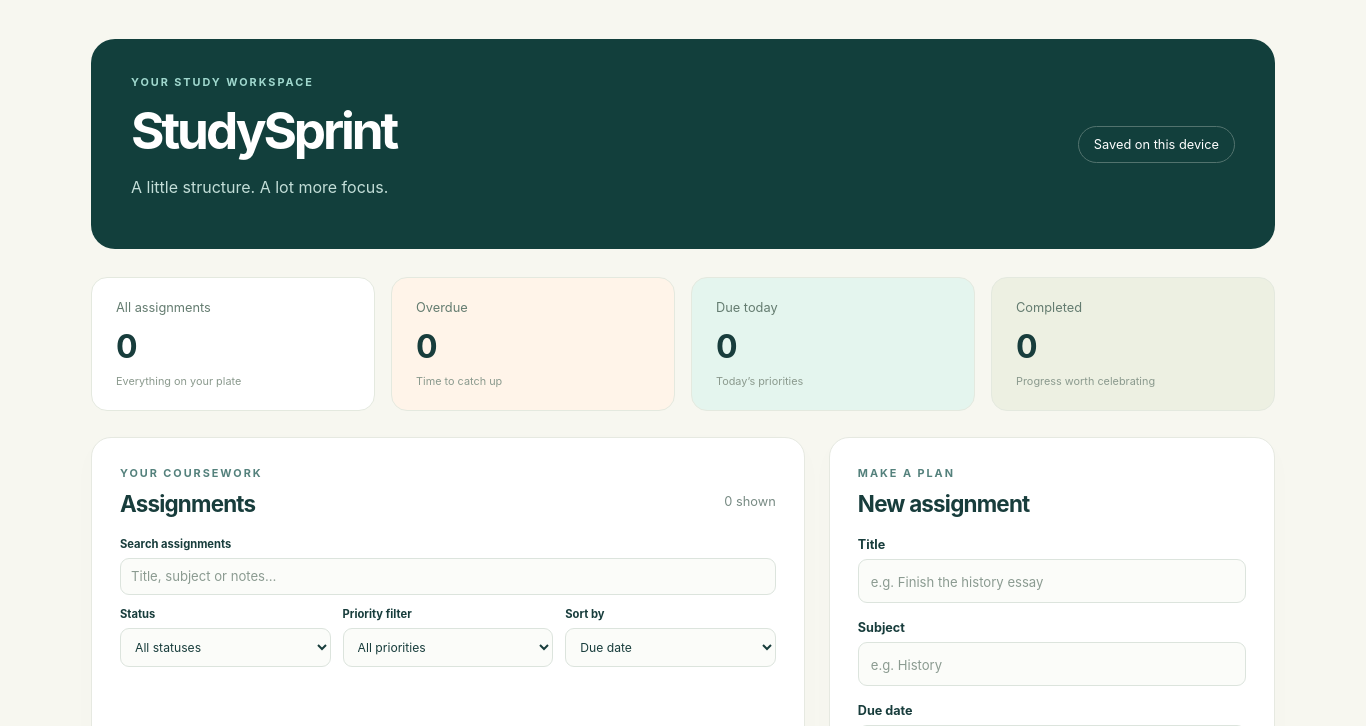
Test: keeps totals while combining labeled filters and exposes native clear/create controls
In the field labelled "Title": (1052,581) x1=858 y1=559 x2=1246 y2=603, type "Biology review"
In the field labelled "Subject": (1052,664) x1=858 y1=642 x2=1246 y2=686, type "History"
(page scrolled)
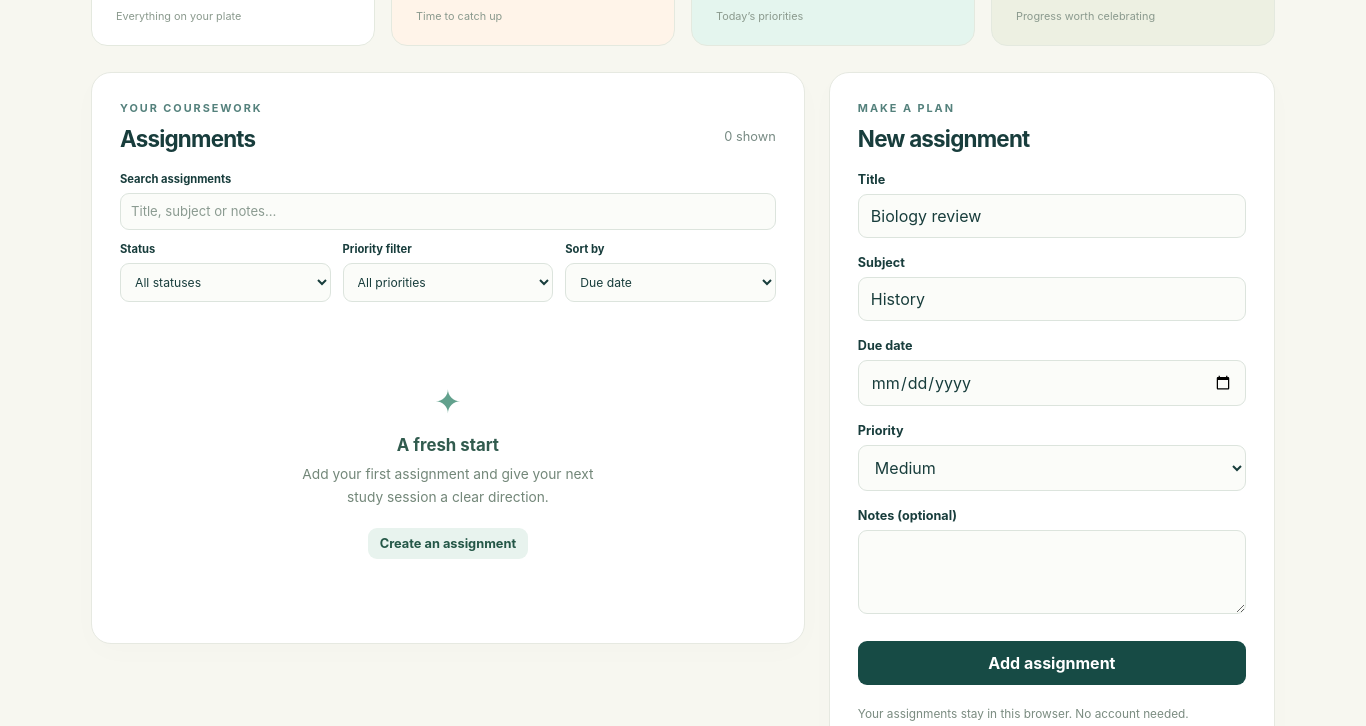
In the date field labelled "Due date": (1052,383) x1=858 y1=360 x2=1246 y2=406, type "2026-10-20"
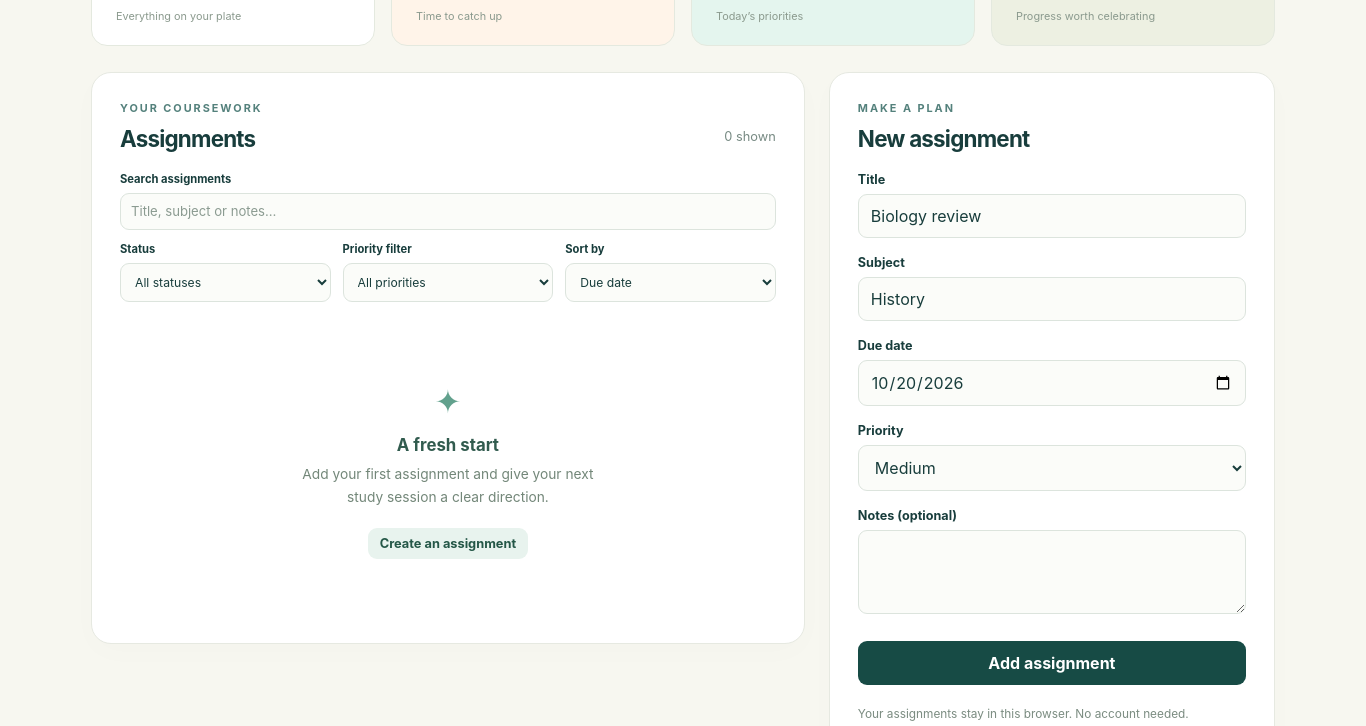
Click the button "Add assignment": (1052,663) x1=858 y1=641 x2=1246 y2=685
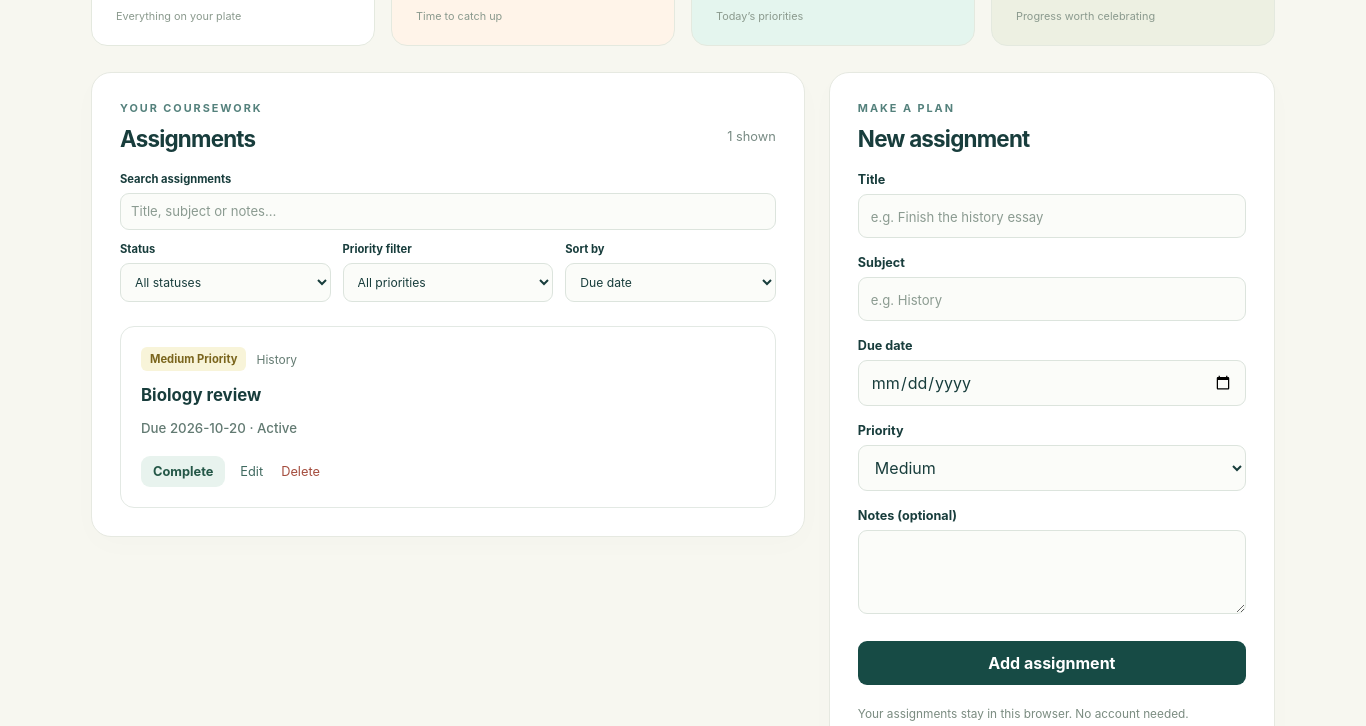
Expected: the dropdown labelled "Status" is shown, x1=120 y1=263 x2=331 y2=302
Expected: the dropdown labelled "Priority filter" is shown, x1=343 y1=263 x2=553 y2=302
In the search field labelled "Search assignments": (448,212) x1=120 y1=193 x2=776 y2=230, type "nothing"
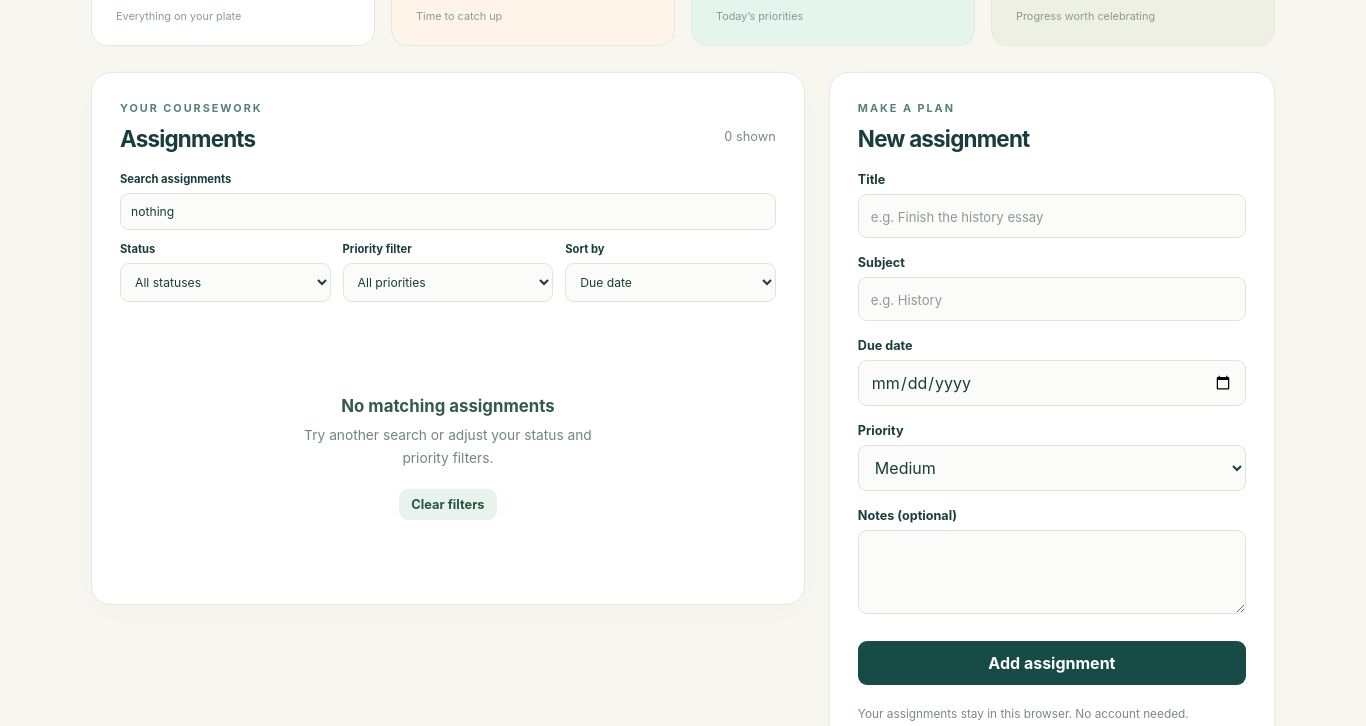
Now the heading "No matching assignments" is shown, box x1=341 y1=396 x2=555 y2=416
Click the button "Clear filters": (448,504) x1=399 y1=489 x2=497 y2=520
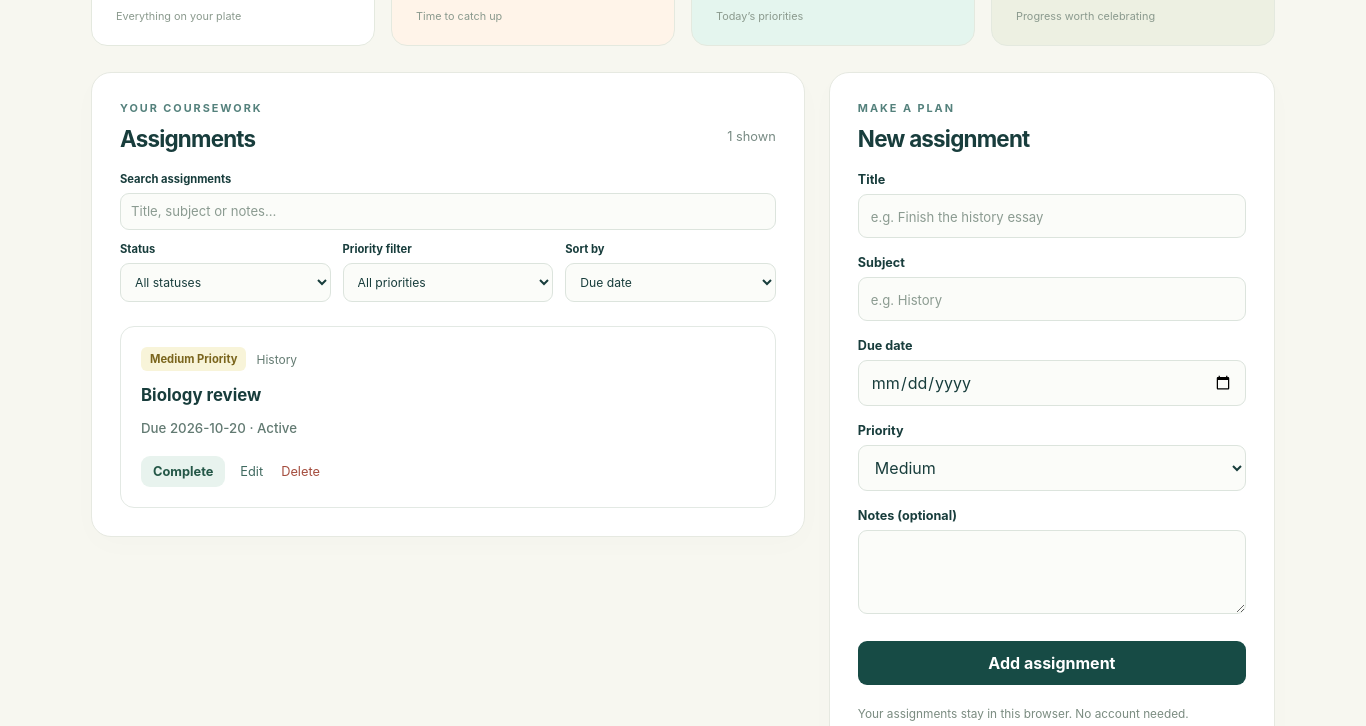
Now the heading "Biology review" is shown, box x1=141 y1=385 x2=261 y2=405
Select "Completed" in the dropdown labelled "Status": (225,282) x1=120 y1=263 x2=331 y2=302
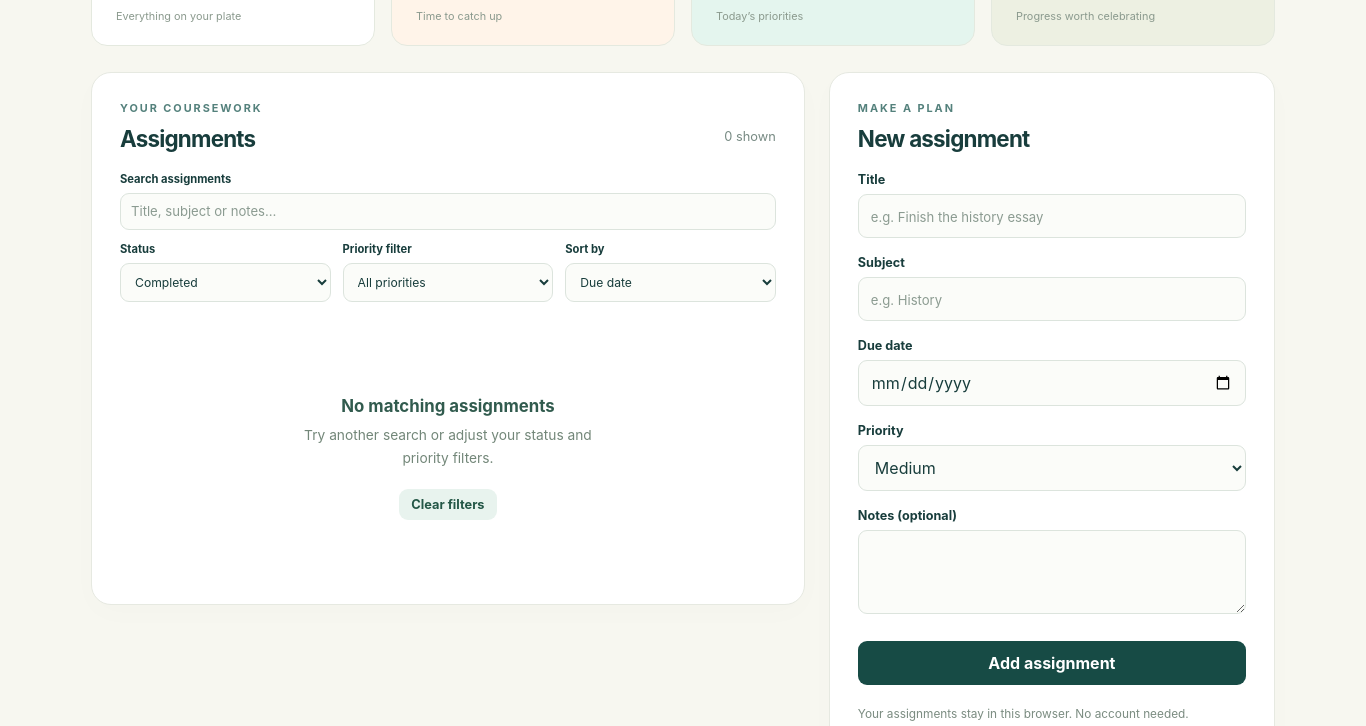
Now the heading "No matching assignments" is shown, box x1=341 y1=396 x2=555 y2=416
